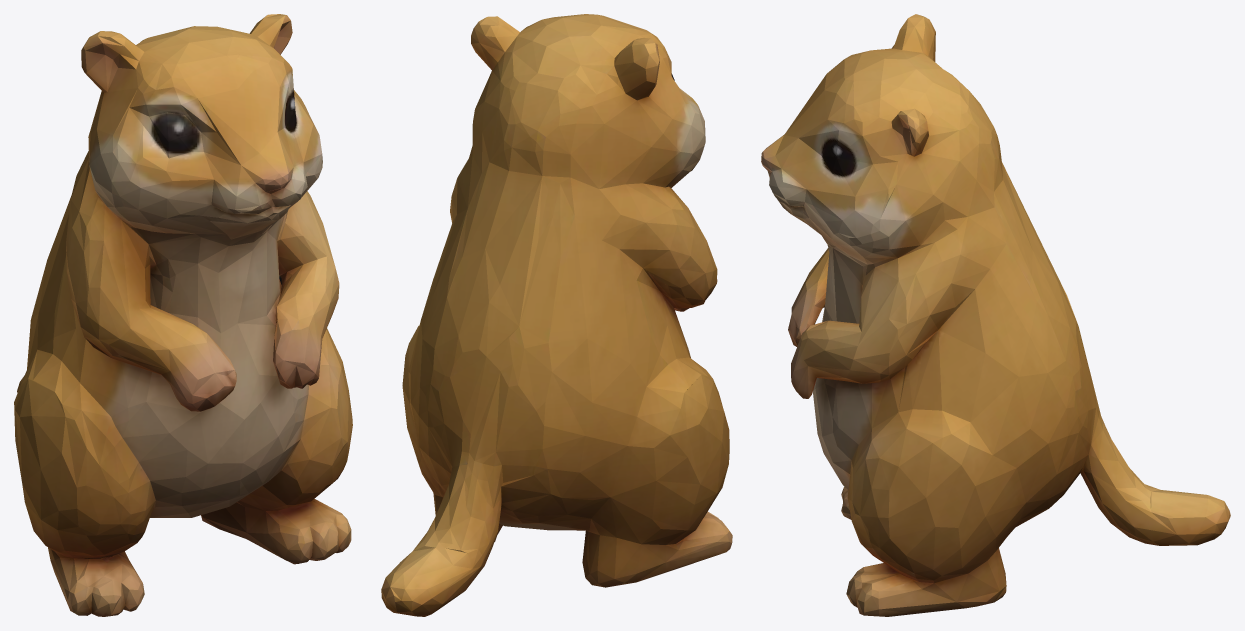
Rendered from gopher.glb.
3 views of the same model, side by side, from view 1: azimuth 30°, elevation 25°; view 2: azimuth 150°, elevation 25°; view 3: azimuth 270°, elevation 25° (orthographic). The views are drawn at different scales.
Visible parts, largest first — view 1: geometry_0; view 2: geometry_0; view 3: geometry_0.
Boxes of the visible parts, x1,y1,x2,y2 form: geometry_0: (14,14,352,616); geometry_0: (381,14,732,616); geometry_0: (761,14,1230,616).
Bounding box in the file's own units: 0.5842 × 0.9956 × 0.8331.
1 material, 1 textured.
